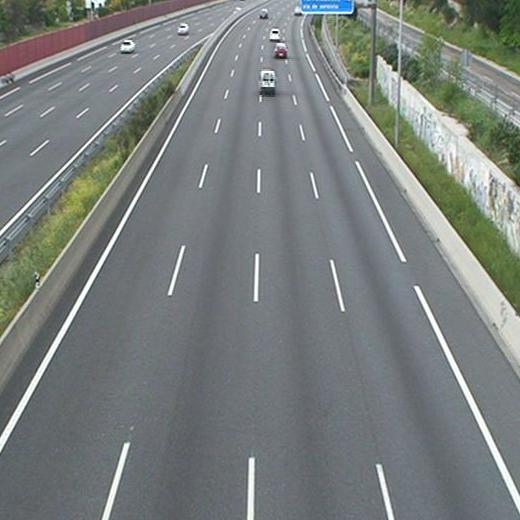van: (258, 70, 276, 94), (274, 43, 288, 57), (269, 28, 281, 41)
